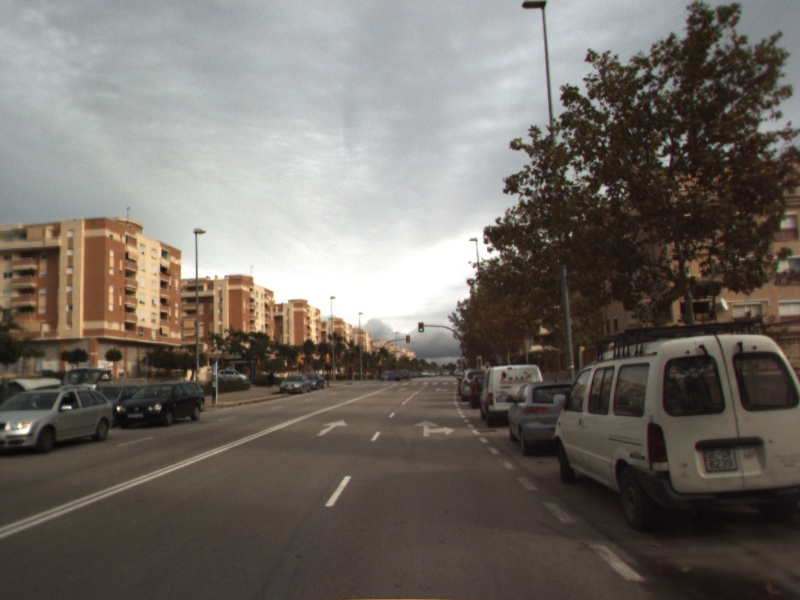STRAIGHT: (314, 417, 350, 438)
STRAIGHT_RIGHT: (412, 417, 457, 438)
